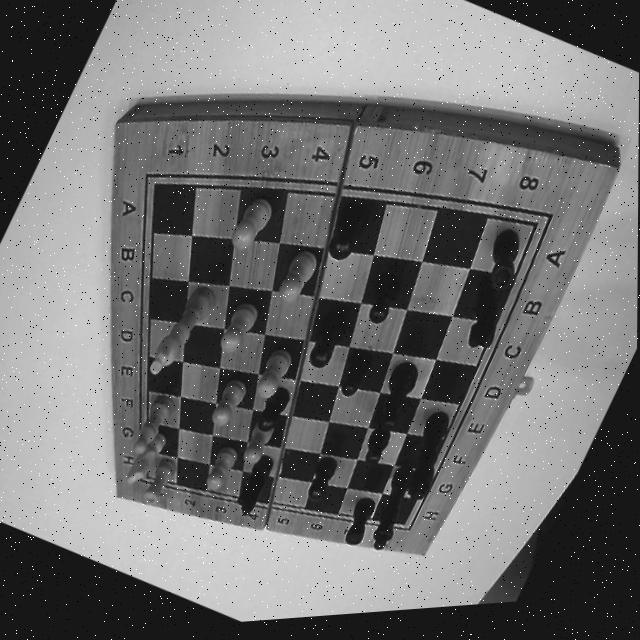chessboard: (144, 184, 540, 533)
